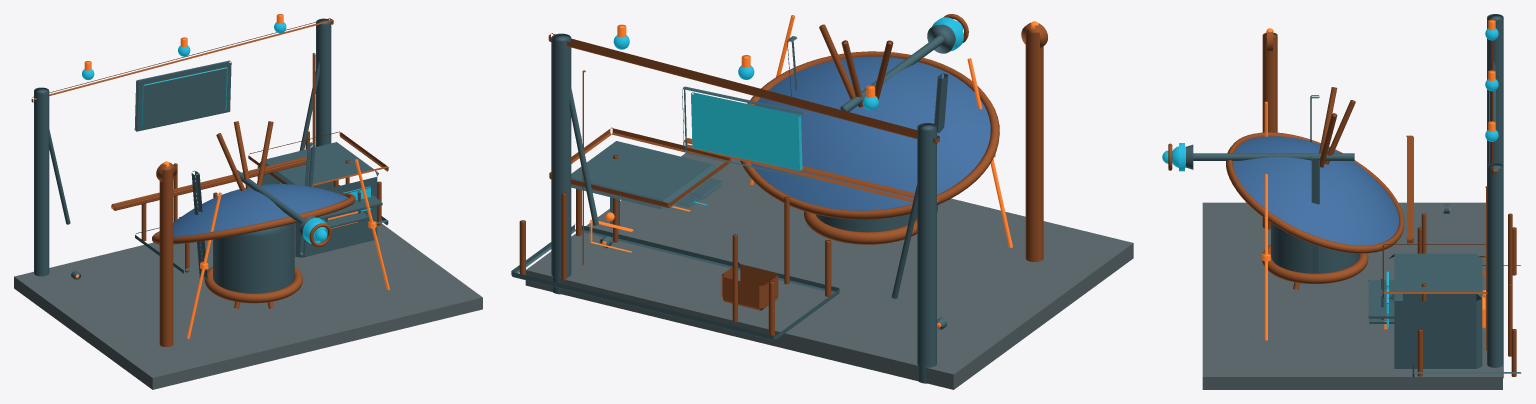
File: observatory.gltf
The picture shows the model from 3 angles, left to right: view 1: azimuth 30°, elevation 25°; view 2: azimuth 150°, elevation 25°; view 3: azimuth 270°, elevation 25°; orthographic projection. The views are drawn at different scales.
Parts seen in each view (by area): view 1: ObservatoryPlatform, ObservatoryRidgeSignalFrame, ObservatoryDishPedestal, ObservatoryControl, ObservatoryDish, ObservatoryRidgePylonL, ObservatoryMast, ObservatoryRidgePylonR, ObservatoryDishRimRing, ObservatoryDishRim, ObservatoryDishSupportRing, ObservatoryRidgeBeam (+9 smaller); view 2: ObservatoryPlatform, ObservatoryDish, ObservatoryRidgeSignalPanel, ObservatoryControl, ObservatoryRidgePylonL, ObservatoryRidgePylonR, ObservatoryDishRimRing, ObservatoryMast, ObservatoryServiceDeck, ObservatoryRidgeBeam, ObservatoryControlCap, ObservatoryServiceCase (+14 smaller); view 3: ObservatoryPlatform, ObservatoryDish, ObservatoryControl, ObservatoryRidgePylonR, ObservatoryDishRimRing, ObservatoryDishPedestal, ObservatoryRidgePylonL, ObservatoryMast, ObservatoryDishSupportRing, ObservatoryFeedArm, ObservatoryDishRim, ObservatoryDishBraceR (+9 smaller).
Part boxes in pixels (<box>): ObservatoryPlatform: <box>14,223,482,389</box>; ObservatoryRidgeSignalFrame: <box>134,60,231,131</box>; ObservatoryDishPedestal: <box>213,223,294,293</box>; ObservatoryControl: <box>257,142,378,257</box>; ObservatoryDish: <box>158,184,348,236</box>; ObservatoryRidgePylonL: <box>34,87,49,276</box>; ObservatoryMast: <box>159,168,173,346</box>; ObservatoryRidgePylonR: <box>316,18,331,146</box>; ObservatoryDishRimRing: <box>152,193,355,244</box>; ObservatoryDishRim: <box>111,157,306,210</box>; ObservatoryDishSupportRing: <box>204,266,302,303</box>; ObservatoryRidgeBeam: <box>31,18,333,102</box>; ObservatoryPlatform: <box>525,153,1133,389</box>; ObservatoryDish: <box>751,56,990,210</box>; ObservatoryRidgeSignalPanel: <box>691,92,802,170</box>; ObservatoryControl: <box>571,141,718,227</box>; ObservatoryRidgePylonL: <box>917,123,936,383</box>; ObservatoryRidgePylonR: <box>551,33,571,294</box>; ObservatoryDishRimRing: <box>740,51,999,219</box>; ObservatoryMast: <box>1025,29,1043,261</box>; ObservatoryServiceDeck: <box>511,224,839,340</box>; ObservatoryRidgeBeam: <box>548,33,939,143</box>; ObservatoryControlCap: <box>549,127,730,207</box>; ObservatoryServiceCase: <box>721,262,778,310</box>; ObservatoryPlatform: <box>1202,202,1502,389</box>; ObservatoryDish: <box>1232,136,1398,245</box>; ObservatoryControl: <box>1388,253,1482,368</box>; ObservatoryRidgePylonR: <box>1487,163,1503,378</box>; ObservatoryDishRimRing: <box>1226,132,1404,253</box>; ObservatoryDishPedestal: <box>1271,223,1359,273</box>; ObservatoryRidgePylonL: <box>1487,14,1503,166</box>; ObservatoryMast: <box>1262,33,1277,229</box>; ObservatoryDishSupportRing: <box>1262,244,1368,283</box>; ObservatoryFeedArm: <box>1193,153,1354,160</box>; ObservatoryDishRim: <box>1406,135,1413,243</box>; ObservatoryDishBraceR: <box>1310,156,1319,272</box>.
Bounding box in the file's own units: 11.1 × 6.79 × 9.57.
